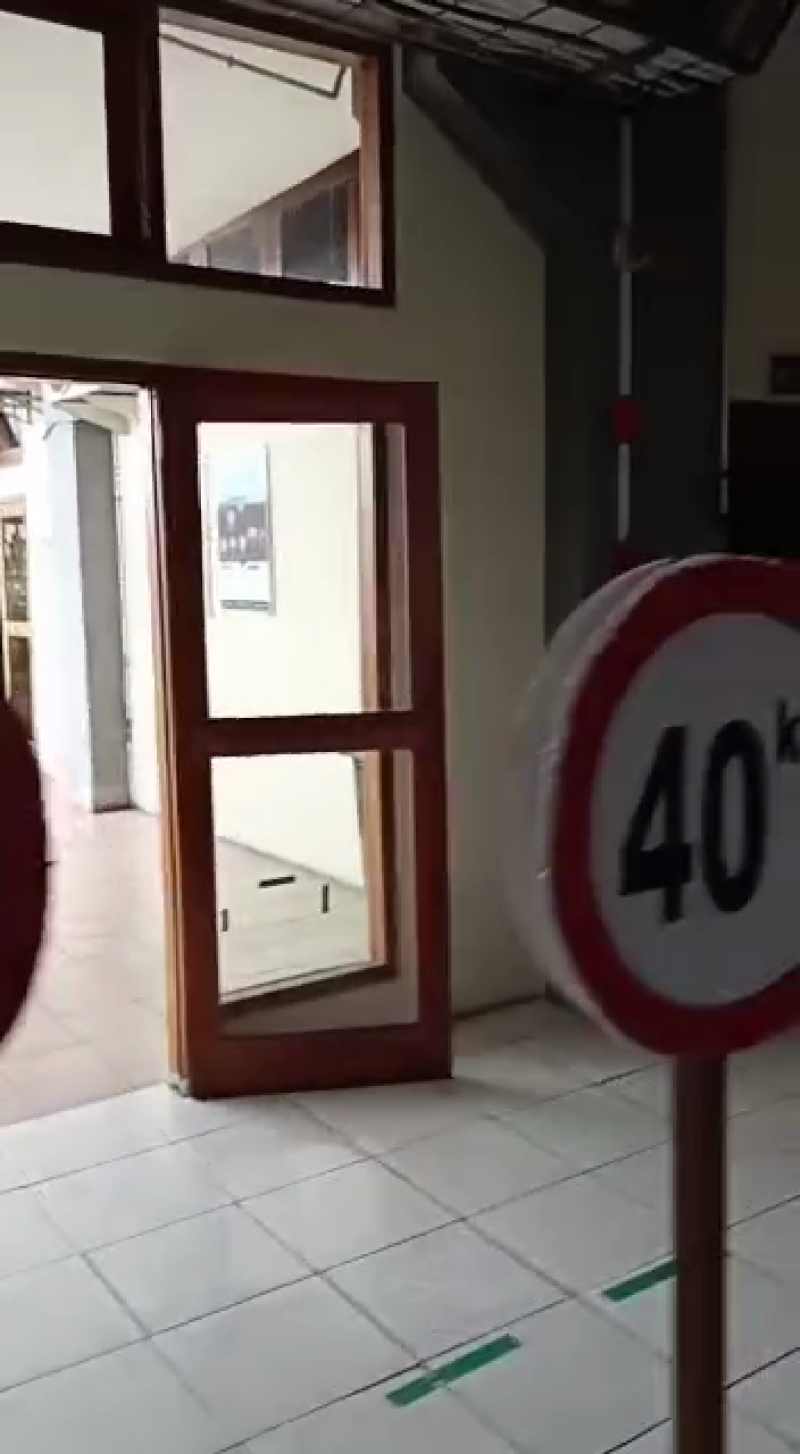batas maksimal 40kmperjam: (544, 528, 800, 1076)
